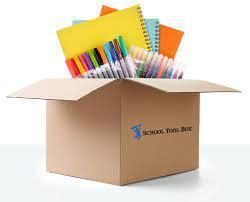box: (5, 78, 245, 186)
